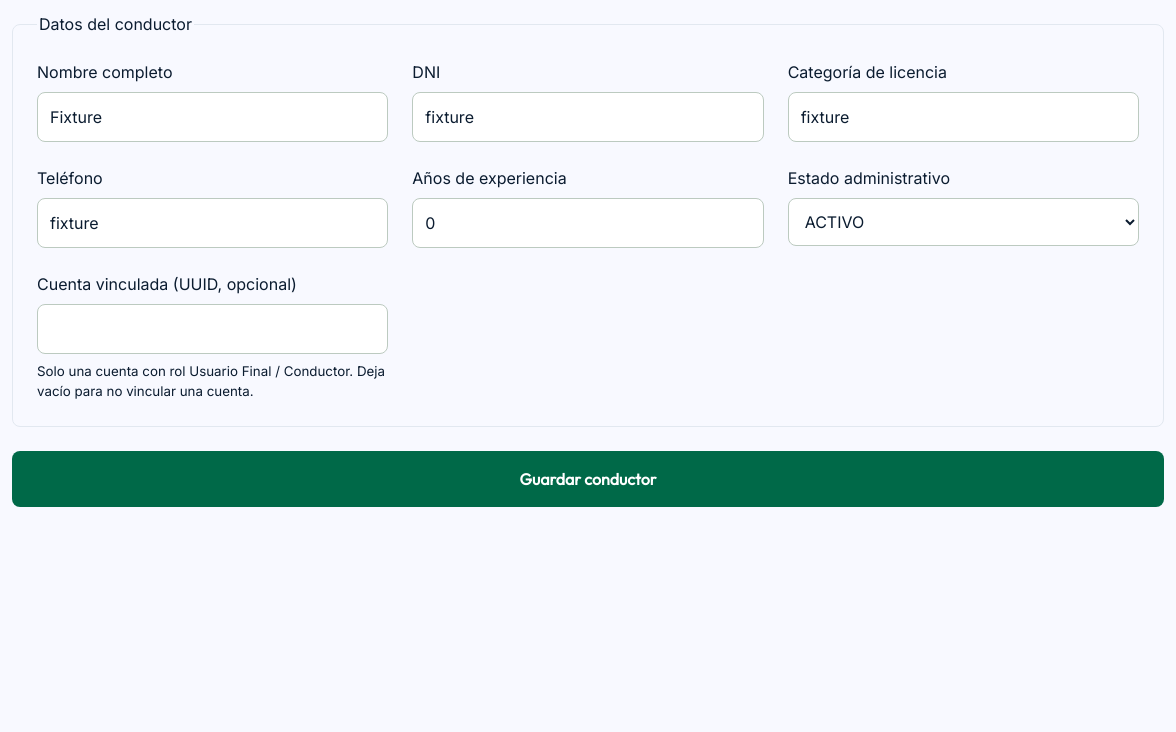
Test: error conserva campos y permite reintentar
Click the button "Guardar conductor" at (588, 479), box [12,451,1164,507]
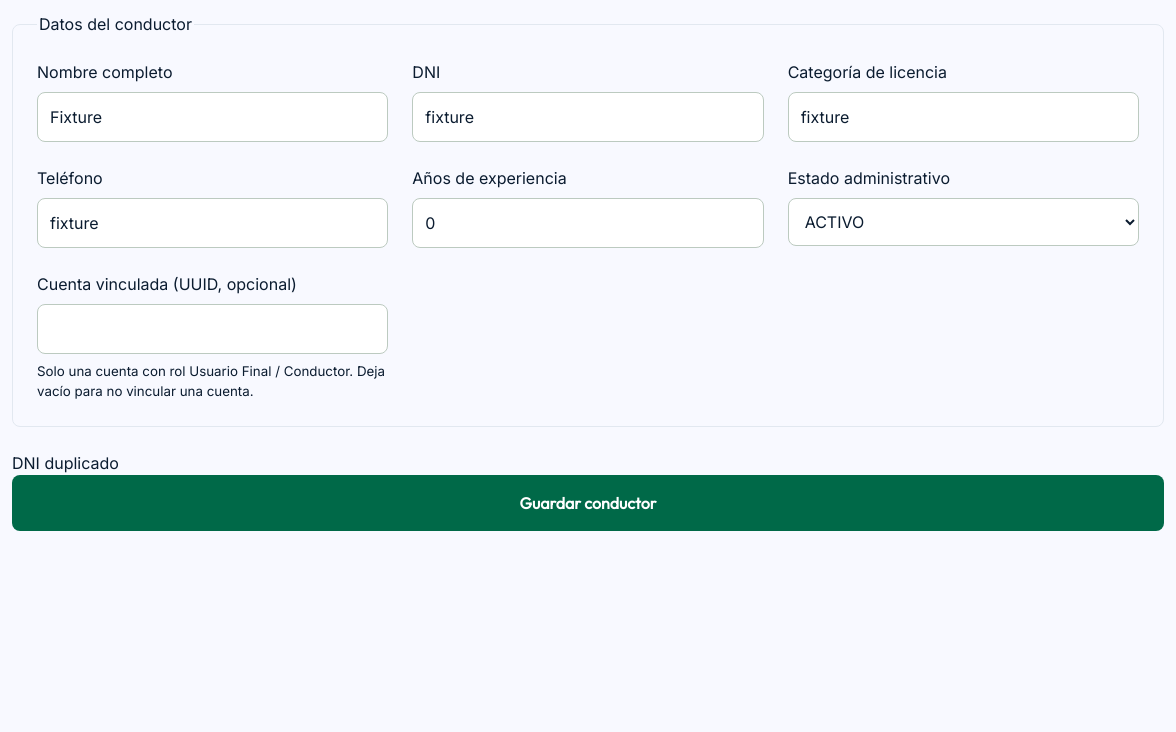
Expected: the field labelled "Nombre completo" holds "Fixture", [37,92,388,142]
Expected: the message reads "DNI duplicado", [12,453,119,473]
